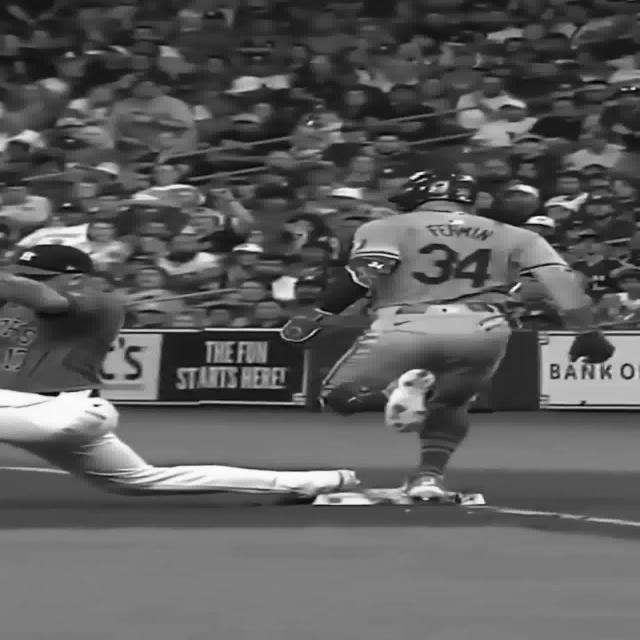base: (311, 486, 425, 506), (442, 491, 487, 506)
shoe: (385, 369, 438, 432), (278, 469, 360, 496), (407, 471, 449, 501)
